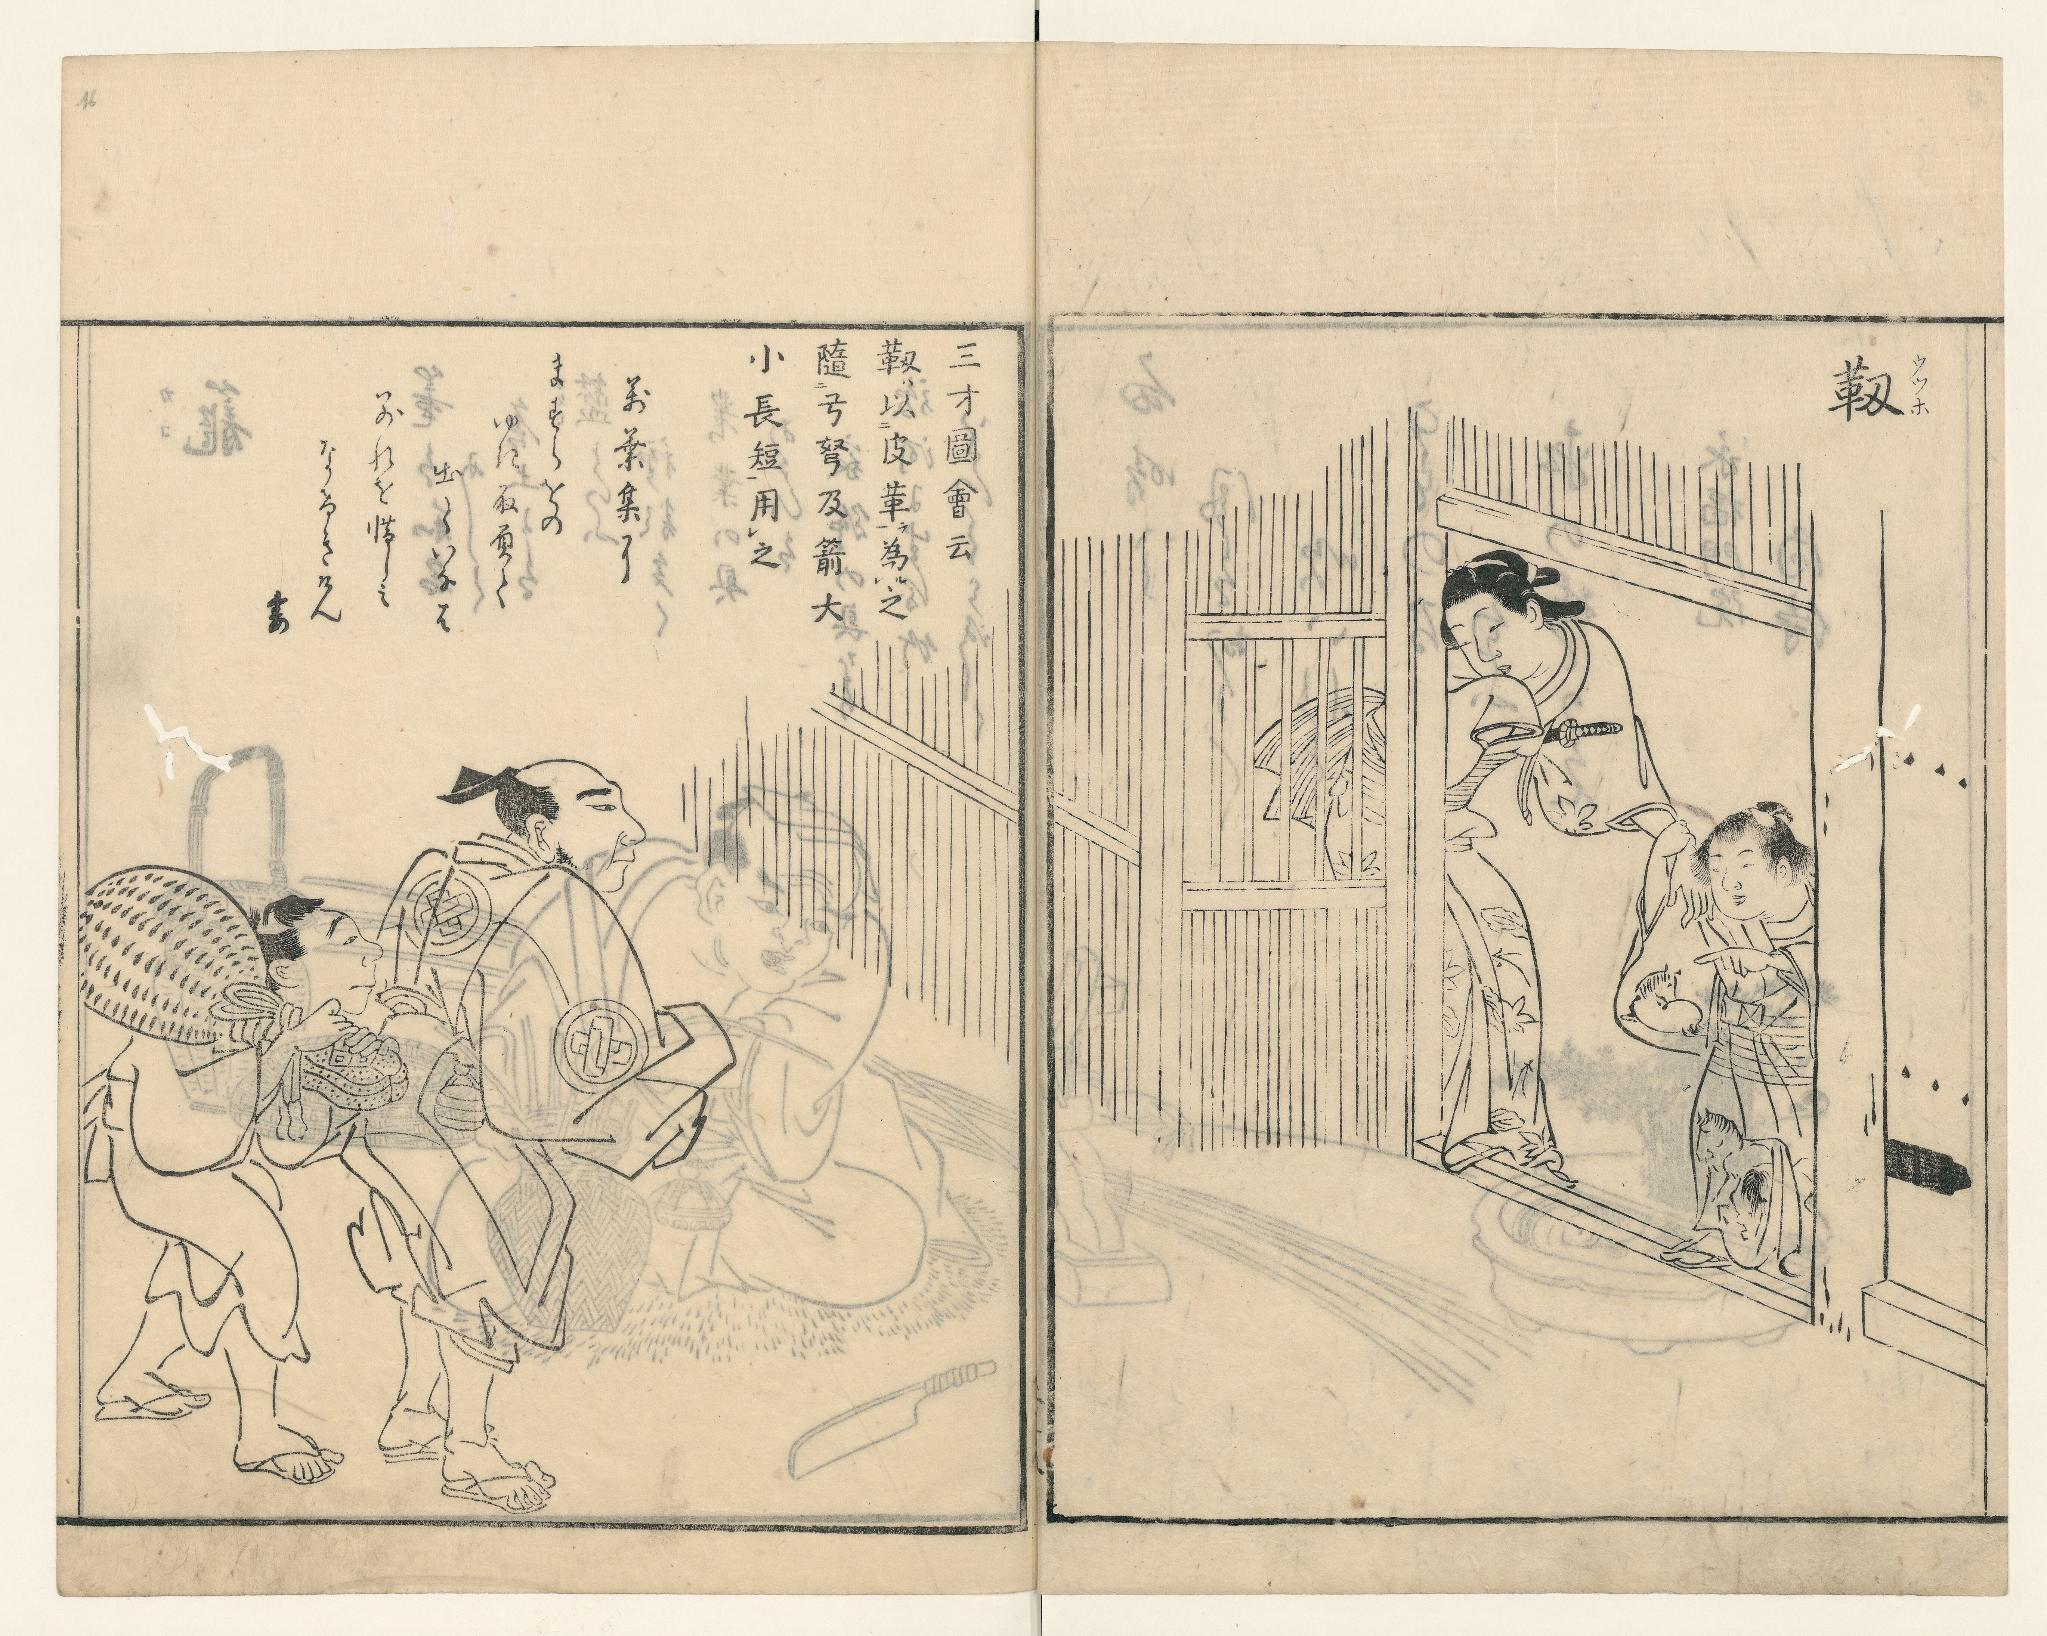MainZone-Character: (1823, 346, 1942, 427)
MainZone-Ruby: (1907, 351, 1932, 419)
